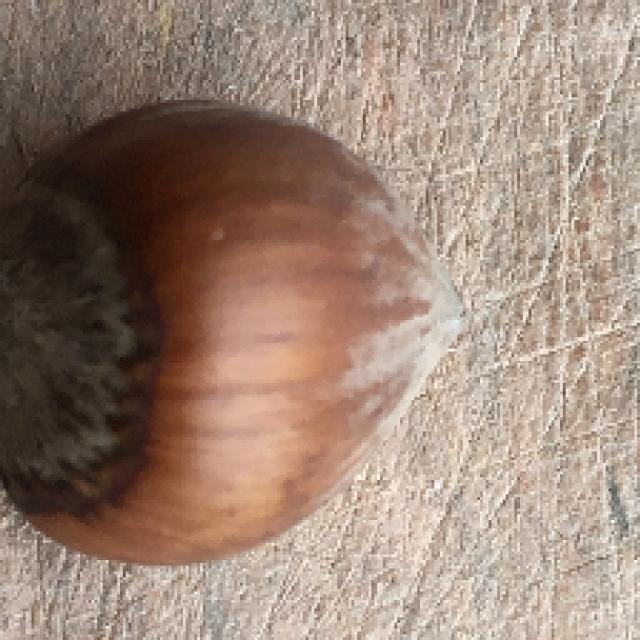qualityHazelnut: (0, 95, 463, 564)
